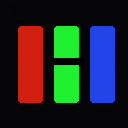3 line_h: (49, 58, 83, 64)
